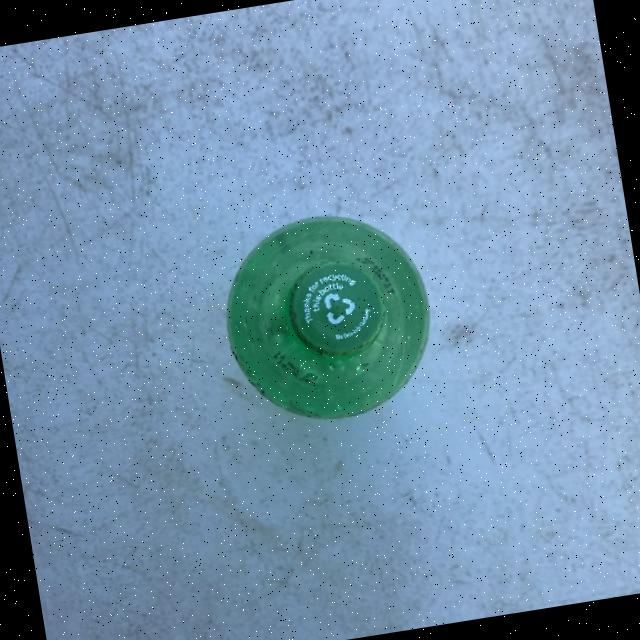plastic: (210, 200, 444, 433)
